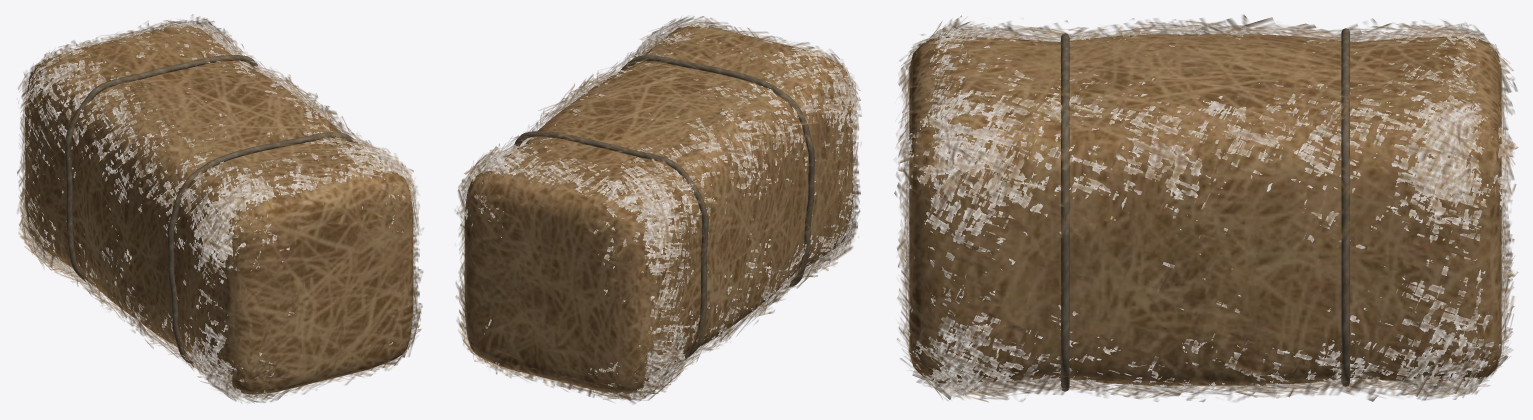
Rendered from o_hay.glb.
3 views of the same model, side by side, from view 1: azimuth 30°, elevation 25°; view 2: azimuth 150°, elevation 25°; view 3: azimuth 270°, elevation 25° (orthographic). The views are drawn at different scales.
Visible parts, largest first — view 1: Hay_bale_latest:Hay_Hay_bale_latest:Hay_bale1_0; view 2: Hay_bale_latest:Hay_Hay_bale_latest:Hay_bale1_0; view 3: Hay_bale_latest:Hay_Hay_bale_latest:Hay_bale1_0.
Boxes of the visible parts, x1,y1,x2,y2 form: Hay_bale_latest:Hay_Hay_bale_latest:Hay_bale1_0: (17,14,423,403); Hay_bale_latest:Hay_Hay_bale_latest:Hay_bale1_0: (454,16,861,403); Hay_bale_latest:Hay_Hay_bale_latest:Hay_bale1_0: (894,14,1518,402).
Size of the model in its own units: 0.9778 by 0.9709 by 1.79.
1 material, 1 textured.
